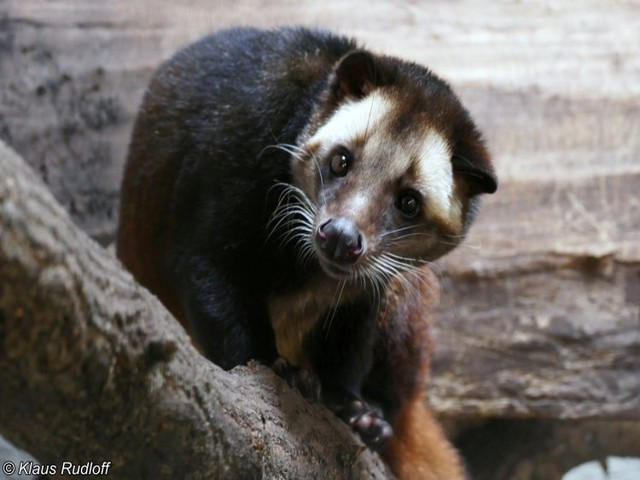civet: (118, 22, 499, 444)
